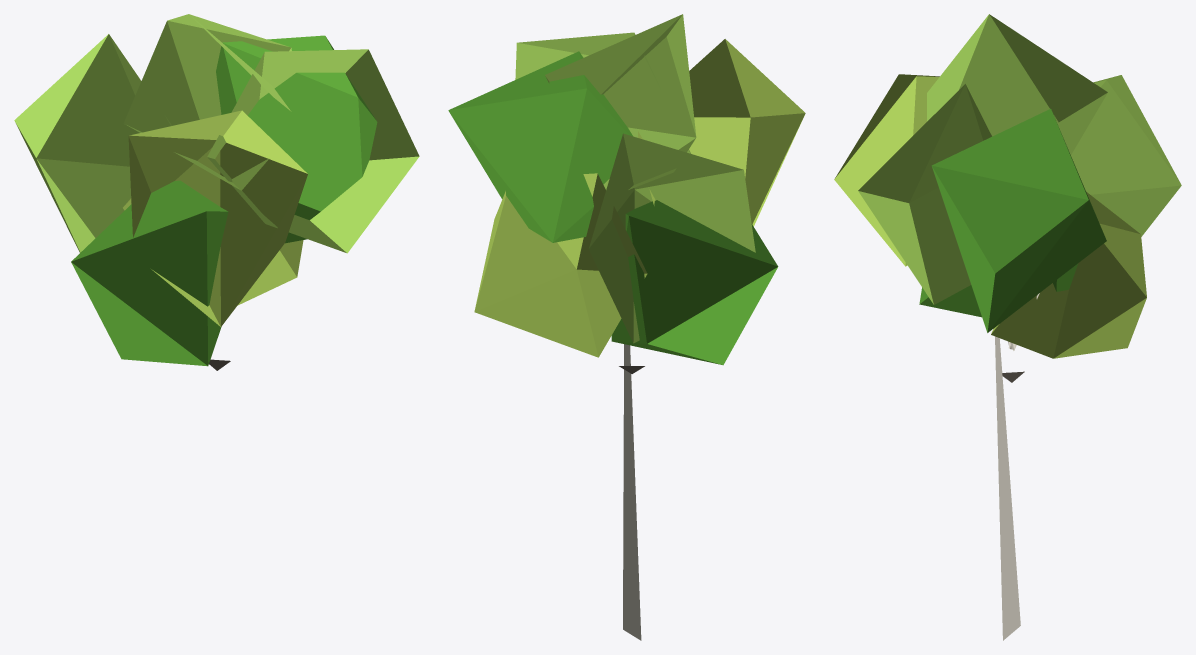
The model's file is tree_birch_1_lod2.glb.
3 views of the same model, side by side, from view 1: azimuth 30°, elevation 25°; view 2: azimuth 150°, elevation 25°; view 3: azimuth 270°, elevation 25° (orthographic). The views are drawn at different scales.
Visible parts, largest first — view 1: tree_birch_1_lod2; view 2: tree_birch_1_lod2; view 3: tree_birch_1_lod2.
Boxes of the visible parts, <box> form: tree_birch_1_lod2: <box>14,14,419,370</box>; tree_birch_1_lod2: <box>448,14,805,640</box>; tree_birch_1_lod2: <box>834,14,1181,640</box>.
Size of the model in its own units: 3.63 by 7.06 by 3.7.
